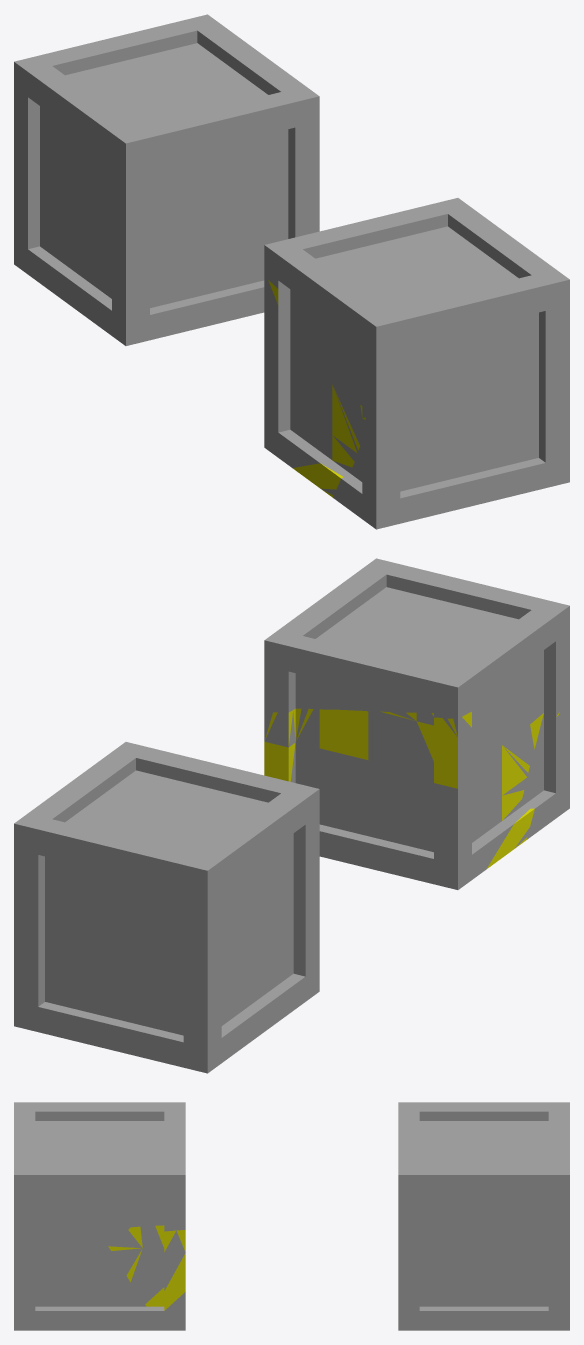
File: boxx shatter.fbx
3 views of the same model, one above another, from view 1: azimuth 30°, elevation 25°; view 2: azimuth 150°, elevation 25°; view 3: azimuth 270°, elevation 25° (orthographic). The views are drawn at different scales.
Visible parts, largest first — view 1: pCube1, shard2, shard1, shard3, shard5, shard4; view 2: pCube1, shard5, shard3, shard1, shard2, shard4; view 3: pCube1, shard1, shard3, shard2, shard5.
Boxes of the visible parts, x1,y1,x2,y2 form: pCube1: (14,14,319,345); shard2: (333,365,555,529); shard1: (430,198,569,485); shard3: (264,202,472,374); shard5: (264,276,371,497); shard4: (305,301,405,404); pCube1: (14,742,319,1073); shard5: (264,690,565,889); shard3: (264,592,569,718); shard1: (264,558,515,671); shard2: (519,671,569,839); shard4: (474,653,569,701); pCube1: (398,1102,569,1330); shard1: (14,1123,185,1330); shard3: (14,1102,185,1231); shard2: (34,1246,162,1330); shard5: (108,1225,185,1330).
Bounding box in the file's own units: 150 × 150 × 486.
